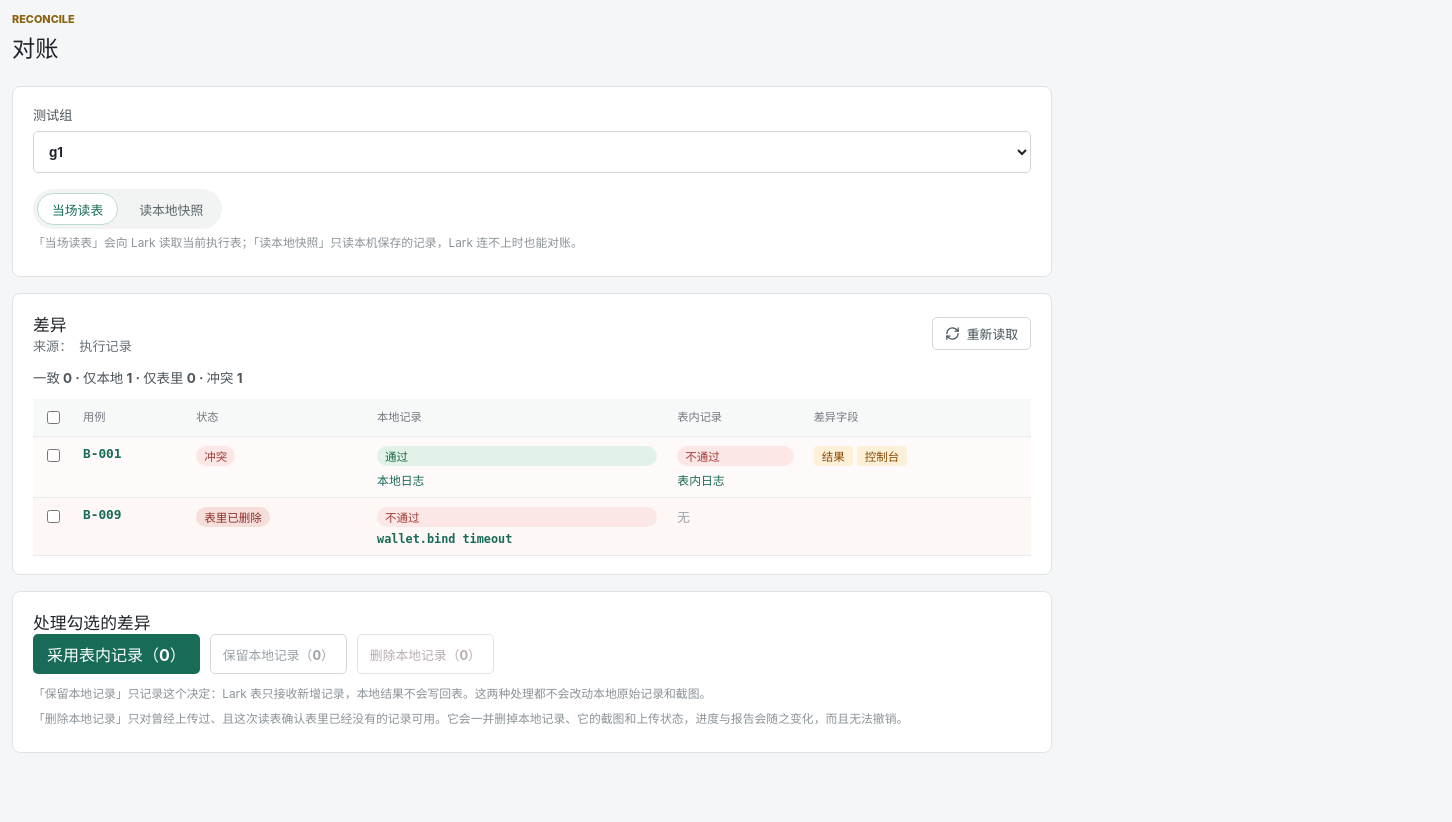
refuses to mix a deletable row with one it cannot touch
Step 1. Click the checkbox named "全选有差异的记录" → click(54, 418), box [47,411,60,424]
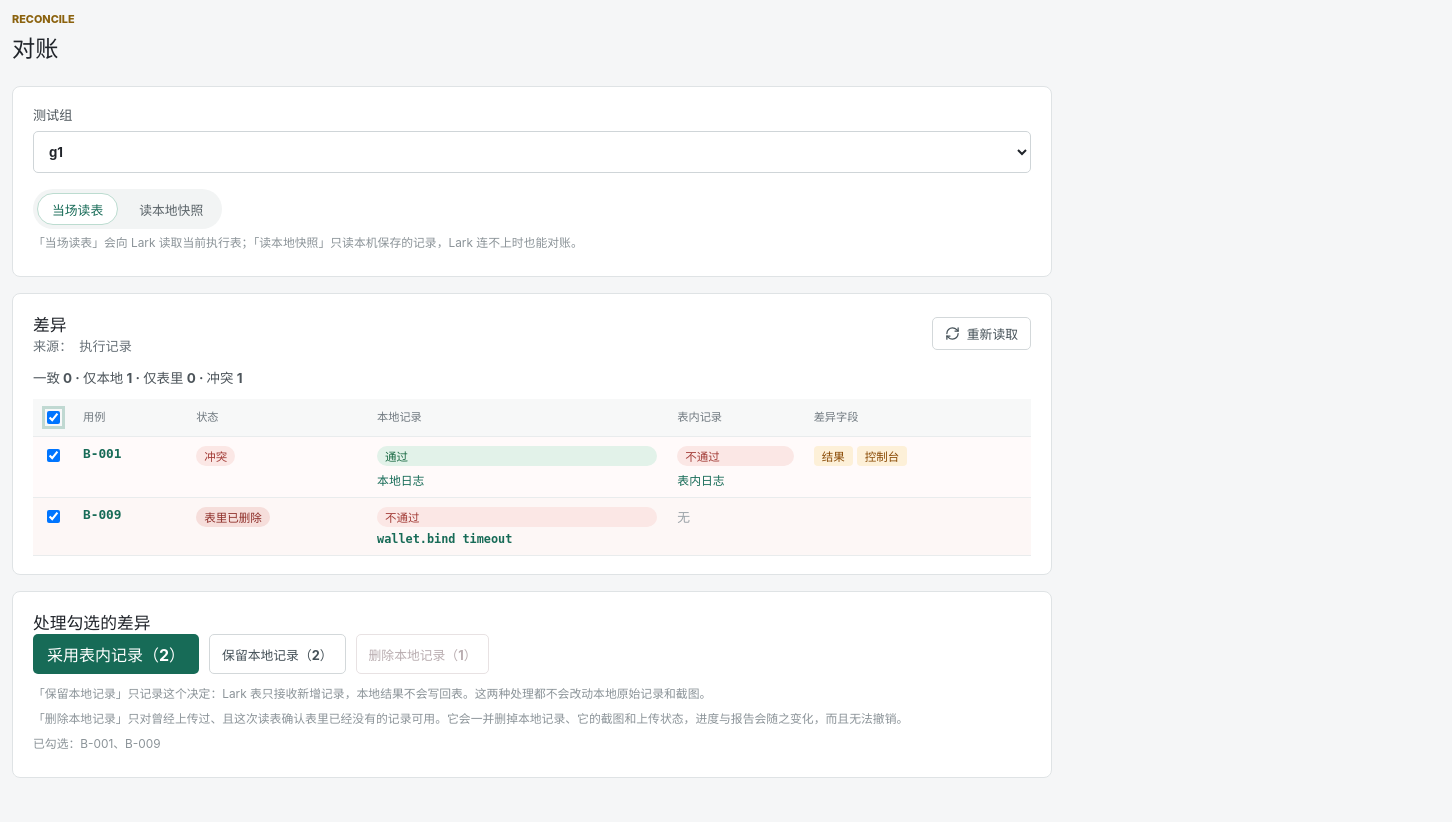
Expected: the button "删除本地记录（1）" is disabled, [356,634,489,674]
Step 2. Click the checkbox named "选择 B-001" → click(54, 456), box [47,449,60,462]
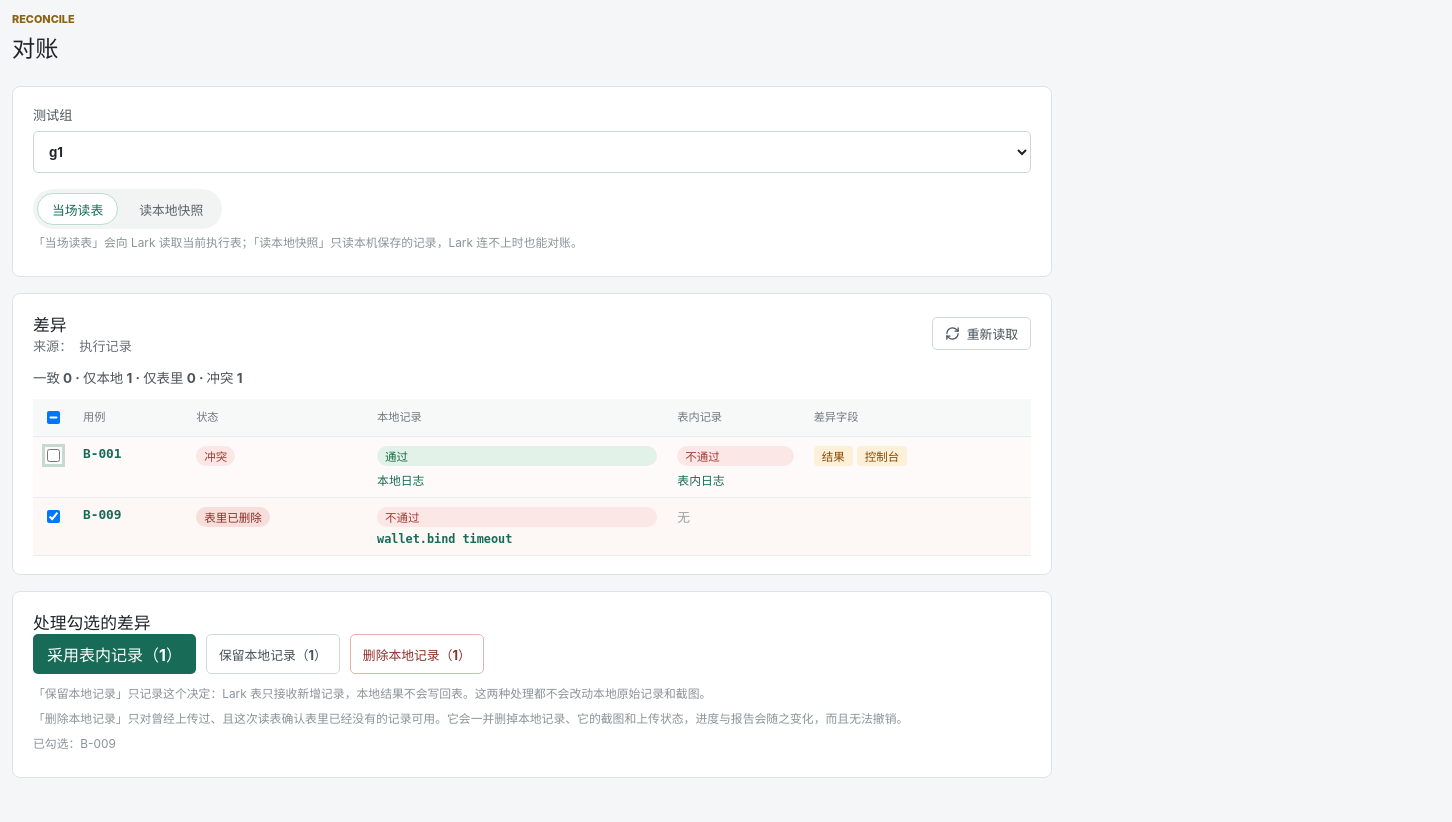
Expected: the button "删除本地记录（1）" is enabled, [350,634,484,674]
